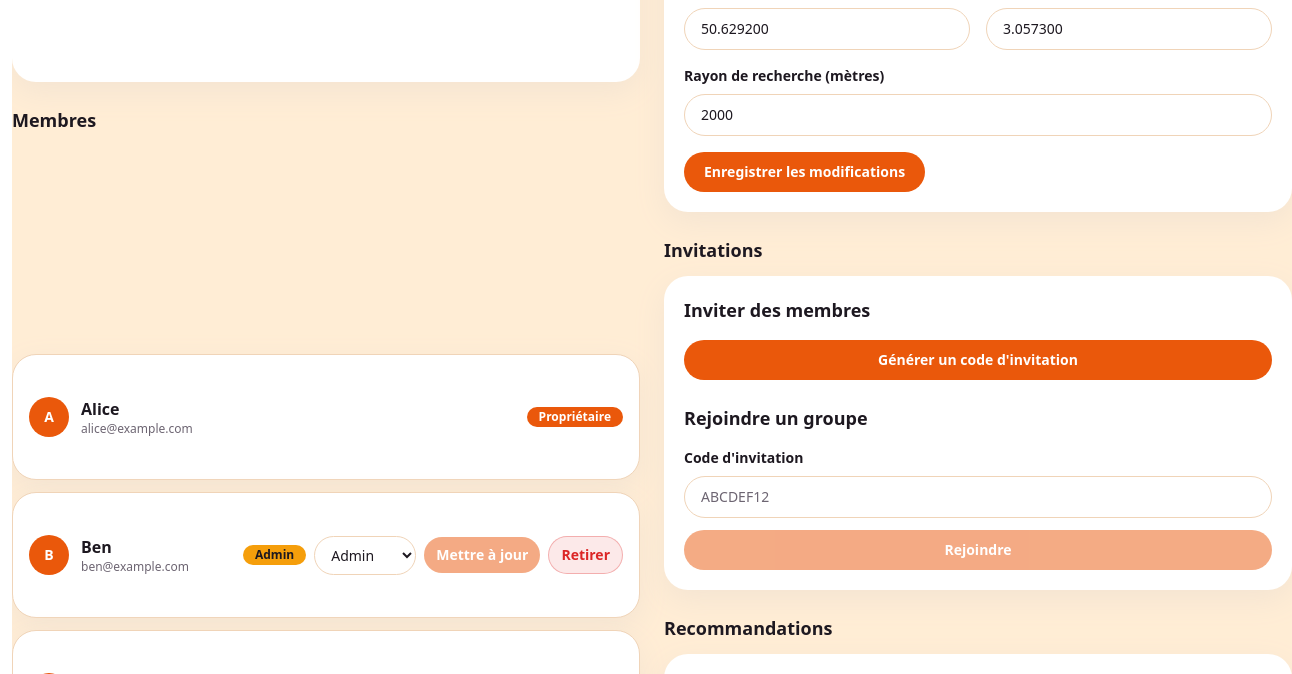
Scenario: GroupDetailPage › creates and displays an invite with copy
(page scrolled)
expect the heading "Invitations" is shown: met, box [664, 238, 762, 262]
What coordinates should you click on to do the following:
click the button "Générer un code d'invitation"
I would click on:
 (978, 360)
Its box is [684, 340, 1272, 380].
(page scrolled)
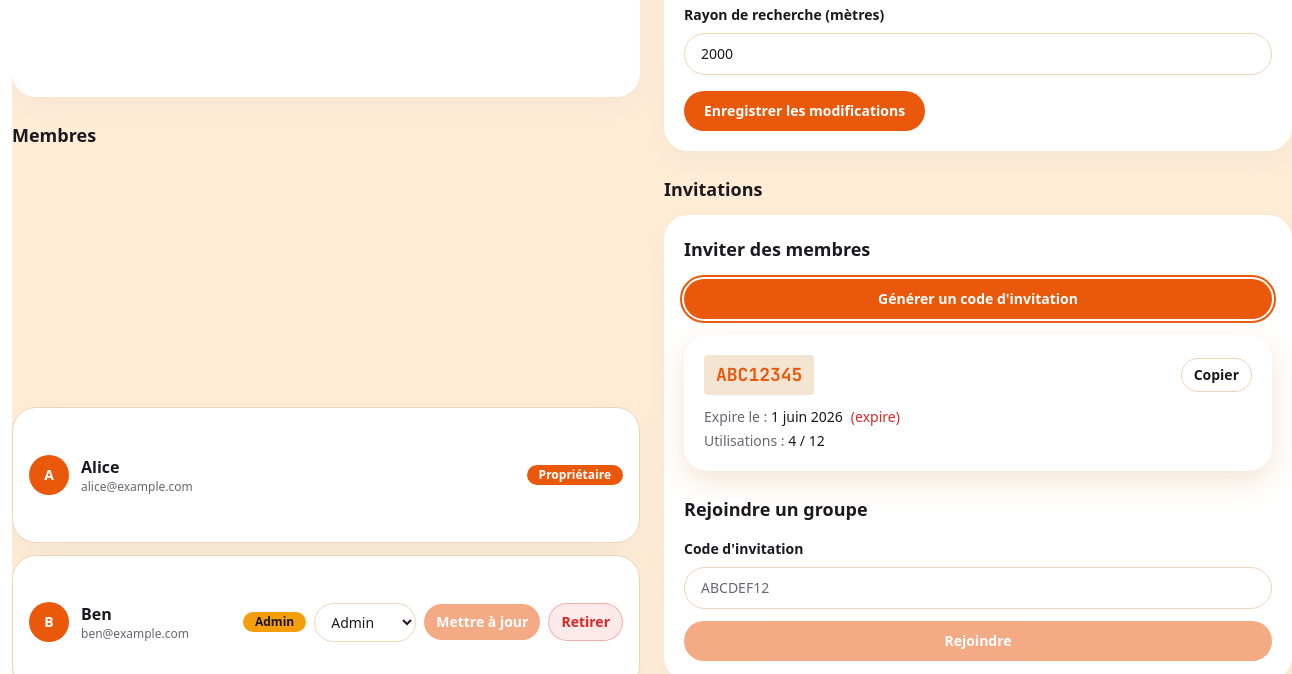
expect the text "ABC12345" is shown: met, box [704, 355, 814, 395]
expect the text "Utilisations : 4 / 12" is shown: met, box [704, 431, 825, 450]
expect the text "Expire le" is shown: met, box [704, 407, 767, 426]
What coordinates should you click on to do the following:
click the button "Copier"
I would click on:
 (1216, 375)
Its box is [1181, 358, 1252, 392].
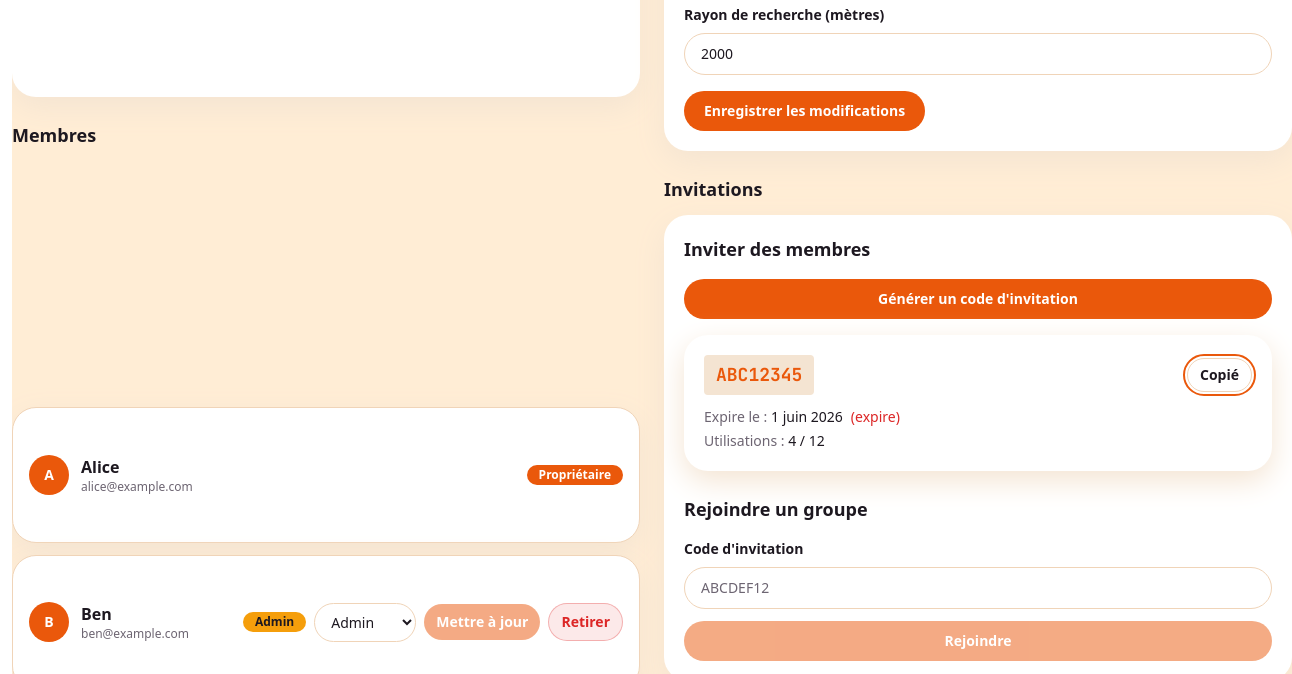
expect the button "Copié" is shown: met, box [1187, 358, 1252, 392]
